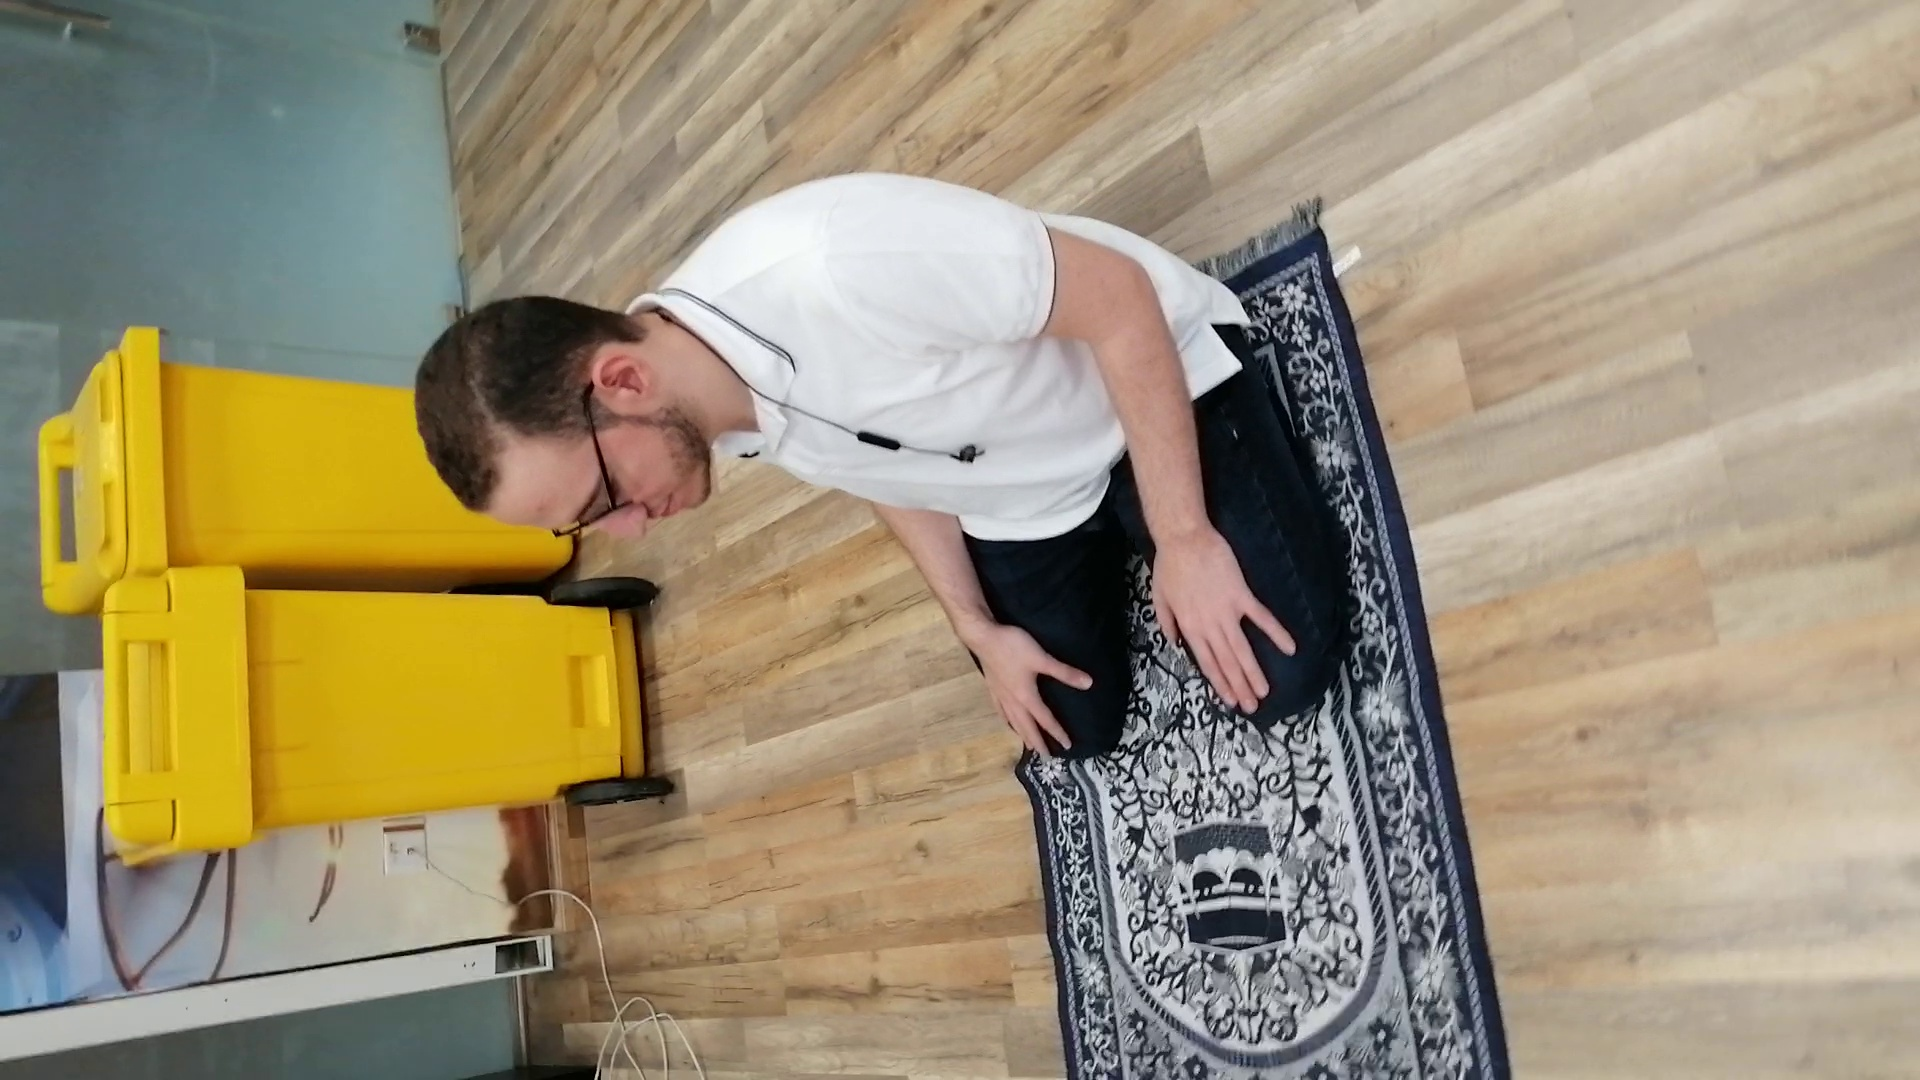sitting: (397, 161, 1369, 770)
